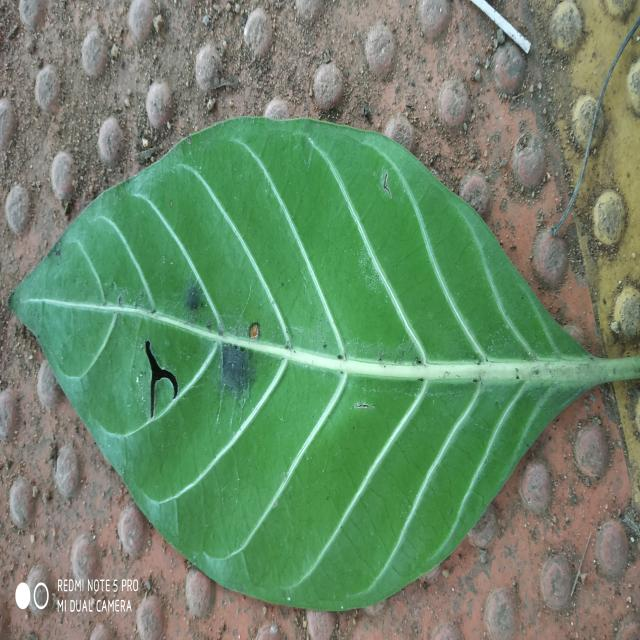anthracnosenooni: (10, 118, 609, 609)
nooni: (9, 118, 640, 609)
